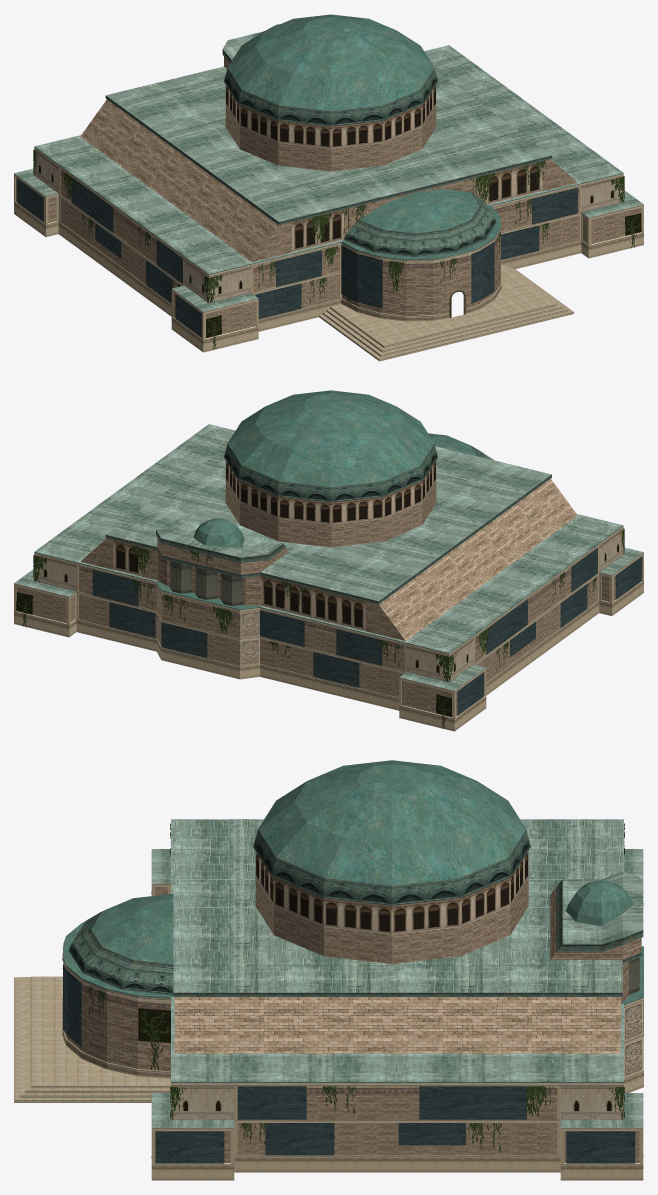
File: mun_nboo_hotel_s01_r0_mesh_l0.fbx
3 renders of one model, top to bottom at view 1: azimuth 30°, elevation 25°; view 2: azimuth 150°, elevation 25°; view 3: azimuth 270°, elevation 25°, orthographic. The views are drawn at different scales.
Visible parts, largest first — view 1: mesh_node; view 2: mesh_node; view 3: mesh_node.
Boxes of the visible parts, box(x1,y1,x2,y2) form: mesh_node: box(14, 14, 643, 361); mesh_node: box(14, 390, 643, 731); mesh_node: box(14, 760, 643, 1180).
Bounding box in the file's own units: 59.56 × 26.29 × 56.85.
